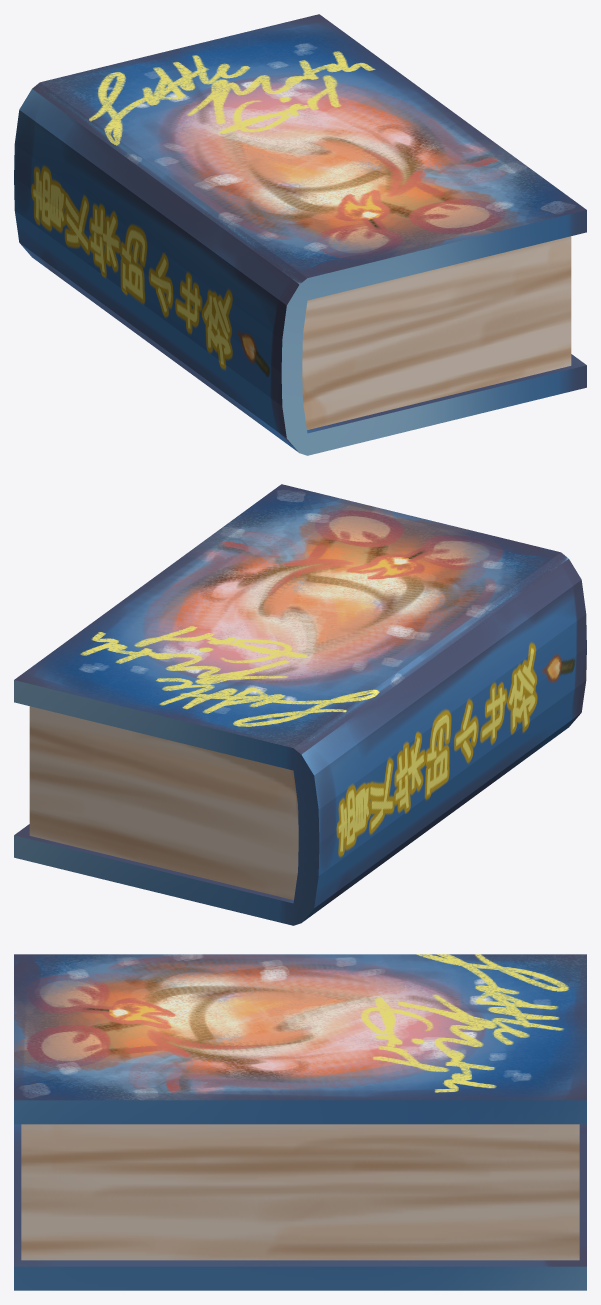
File: LittleGirl_StoryBook.fbx
3 renders of one model, top to bottom at view 1: azimuth 30°, elevation 25°; view 2: azimuth 150°, elevation 25°; view 3: azimuth 270°, elevation 25°, orthographic. The views are drawn at different scales.
Visible parts, largest first — view 1: LittleGirl_StoryBook; view 2: LittleGirl_StoryBook; view 3: LittleGirl_StoryBook.
Part boxes in pixels (bbox=[...]): LittleGirl_StoryBook: bbox=[14, 14, 586, 455]; LittleGirl_StoryBook: bbox=[14, 484, 586, 925]; LittleGirl_StoryBook: bbox=[14, 954, 586, 1290].
Size of the model in its own units: 32.19 by 17.89 by 48.85.
Materials: 1 (1 with a texture image).
